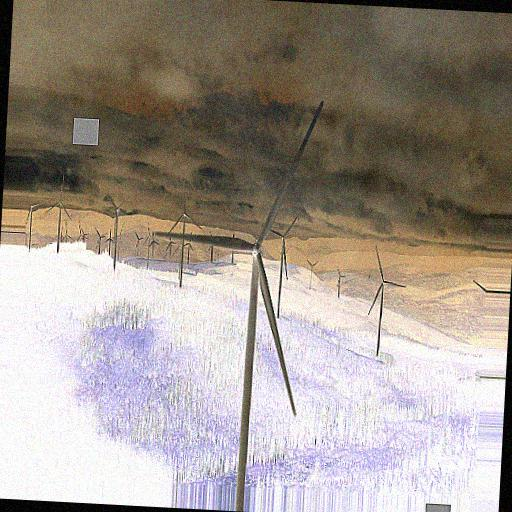wind turbine: (154, 99, 326, 497), (366, 243, 407, 354), (169, 190, 204, 287), (44, 172, 73, 250)
